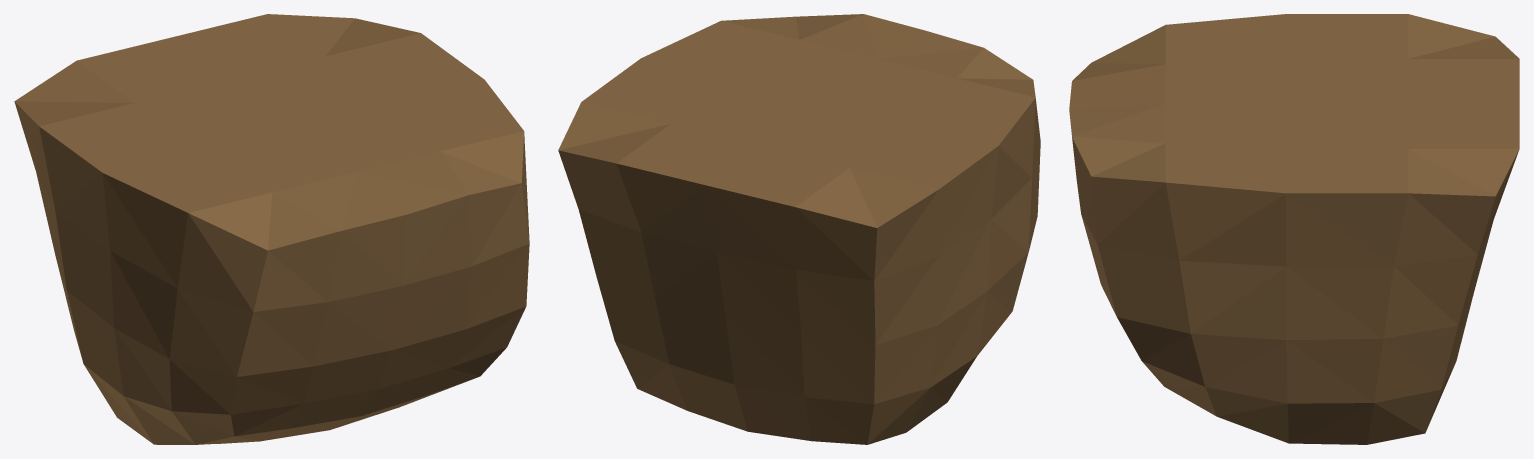
File: RightFingerJoint23y_joint_visu.dae
The picture shows the model from 3 angles, left to right: view 1: azimuth 30°, elevation 25°; view 2: azimuth 150°, elevation 25°; view 3: azimuth 270°, elevation 25°; orthographic projection. The views are drawn at different scales.
Parts seen in each view (by area): view 1: node; view 2: node; view 3: node.
Boxes of the visible parts, <box> form: node: <box>14,14,529,444</box>; node: <box>558,14,1040,444</box>; node: <box>1069,14,1519,444</box>.
Size of the model in its own units: 0.0109 by 0.00847 by 0.0115.
